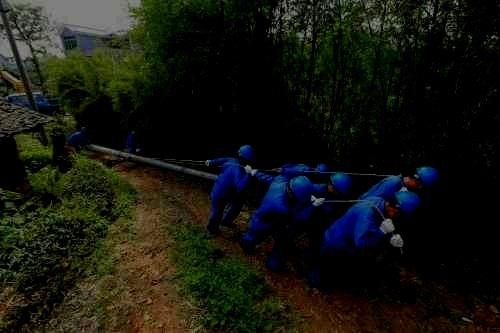helmet: (385, 190, 420, 222), (405, 166, 438, 190), (290, 175, 312, 207), (327, 172, 351, 196), (237, 145, 254, 166)
